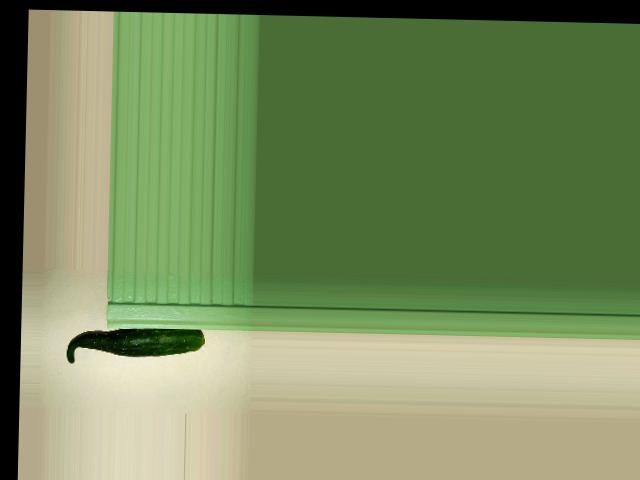cucumber: (65, 326, 204, 365)
